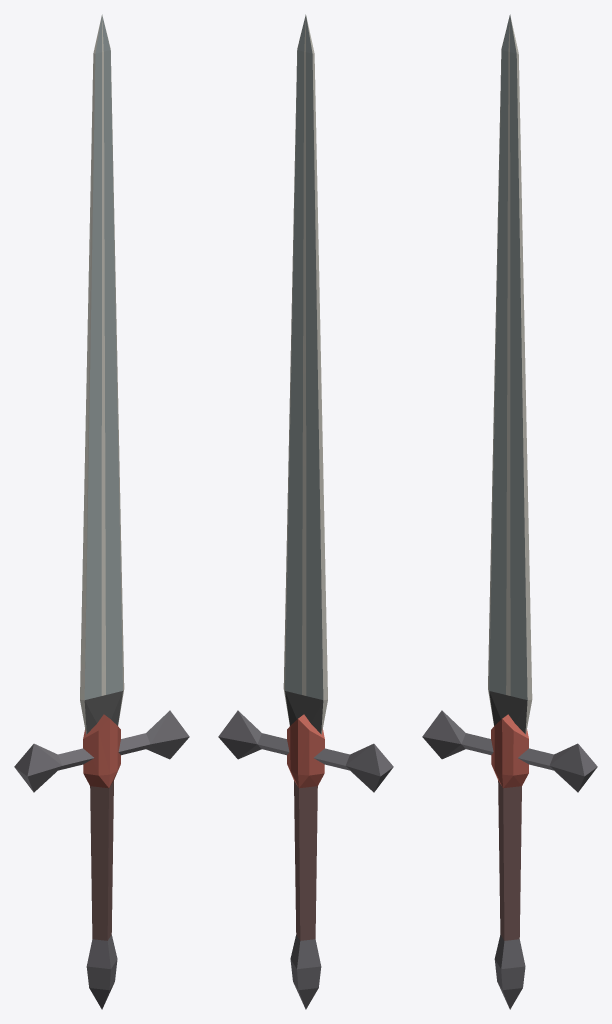
The model's file is Sword_4.fbx.
3 views of the same model, side by side, from view 1: azimuth 30°, elevation 25°; view 2: azimuth 150°, elevation 25°; view 3: azimuth 330°, elevation 25° (orthographic).
Parts seen in each view (by area): view 1: polySurface259; view 2: polySurface259; view 3: polySurface259.
Boxes of the visible parts, x1,y1,x2,y2 form: polySurface259: [14, 14, 189, 1009]; polySurface259: [218, 14, 393, 1009]; polySurface259: [422, 14, 597, 1009].
Size of the model in its own units: 63.14 by 370 by 12.
